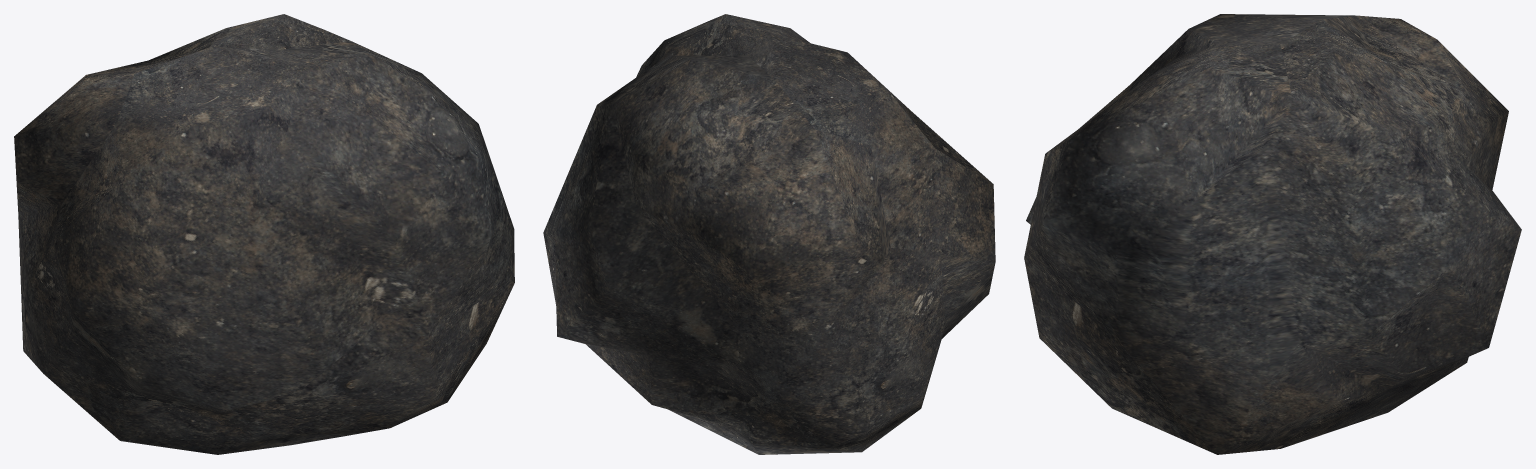
Rendered from asteroidD.FBX.
The picture shows the model from 3 angles, left to right: view 1: azimuth 30°, elevation 25°; view 2: azimuth 150°, elevation 25°; view 3: azimuth 270°, elevation 25°; orthographic projection. The views are drawn at different scales.
Visible parts, largest first — view 1: asteroidLow; view 2: asteroidLow; view 3: asteroidLow.
Part boxes in pixels (x1,y1,x2,y2): asteroidLow: (14, 14, 514, 454); asteroidLow: (543, 14, 995, 454); asteroidLow: (1024, 14, 1521, 454).
Size of the model in its own units: 37.96 by 33.34 by 37.16.
Materials: 1 (1 with a texture image).
